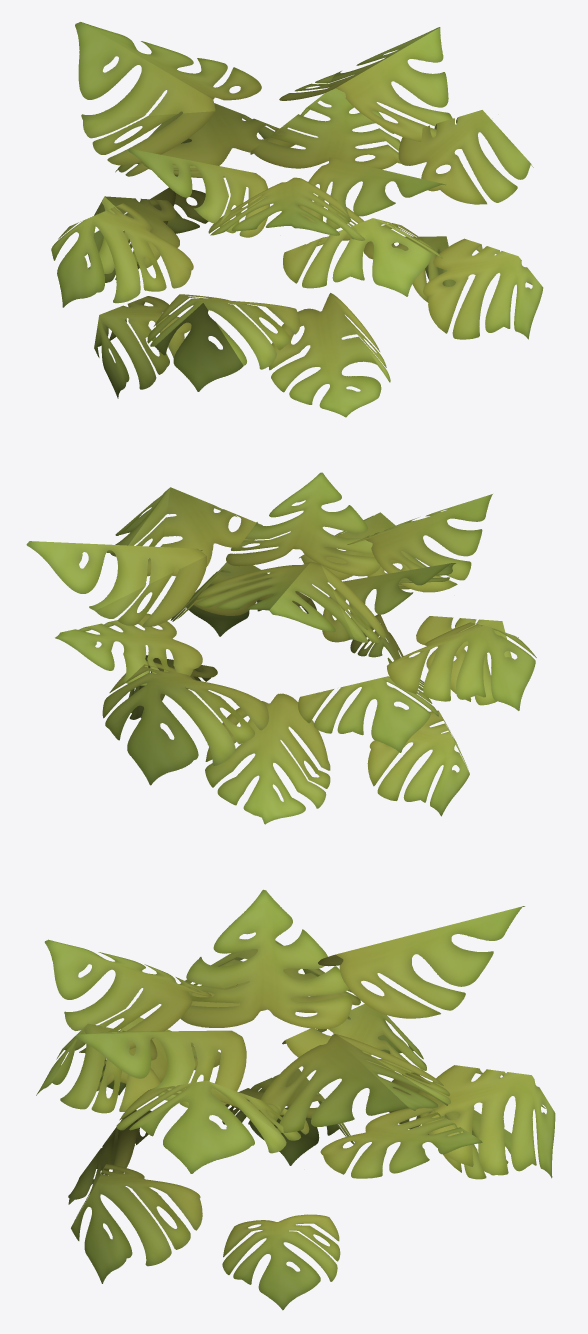
Rendered from plant2_lod0.fbx.
The picture shows the model from 3 angles, top to bottom: view 1: azimuth 30°, elevation 25°; view 2: azimuth 150°, elevation 25°; view 3: azimuth 270°, elevation 25°; orthographic projection. The views are drawn at different scales.
Parts seen in each view (by area): view 1: Tree_1_Tree_1Mat_0.003; view 2: Tree_1_Tree_1Mat_0.003; view 3: Tree_1_Tree_1Mat_0.003.
Boxes of the visible parts, bbox=[...] form: Tree_1_Tree_1Mat_0.003: bbox=[51, 22, 543, 417]; Tree_1_Tree_1Mat_0.003: bbox=[26, 472, 536, 824]; Tree_1_Tree_1Mat_0.003: bbox=[36, 889, 555, 1310].
Size of the model in its own units: 176 by 104 by 170.
Materials: 1 (1 with a texture image).
